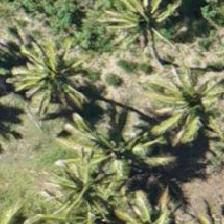coconut_tree: (73, 108, 163, 198), (39, 143, 129, 223)
